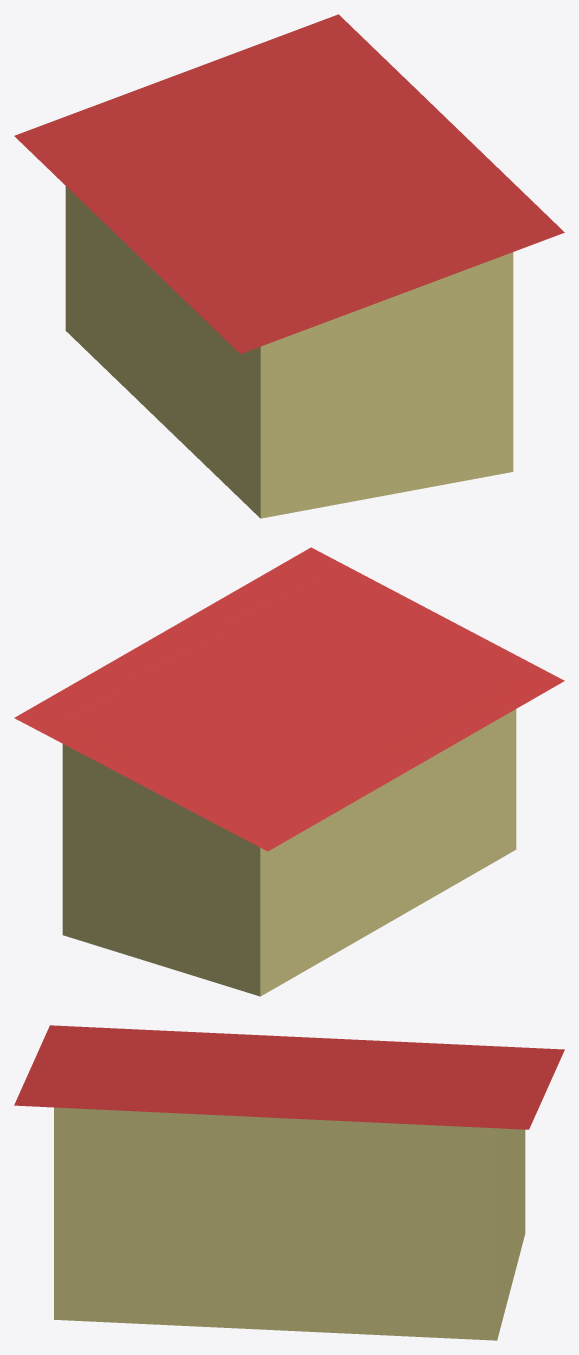
The picture shows the model from 3 angles, top to bottom: view 1: azimuth 30°, elevation 25°; view 2: azimuth 150°, elevation 25°; view 3: azimuth 270°, elevation 25°; orthographic projection. The views are drawn at different scales.
Bounding box in the file's own units: 10.57 × 15.29 × 6.97.
